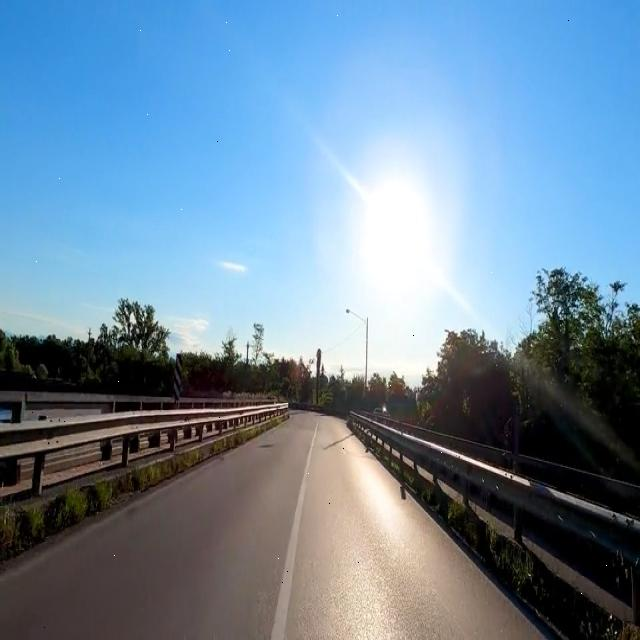lane: (271, 422, 318, 639)
road: (1, 412, 542, 638)
